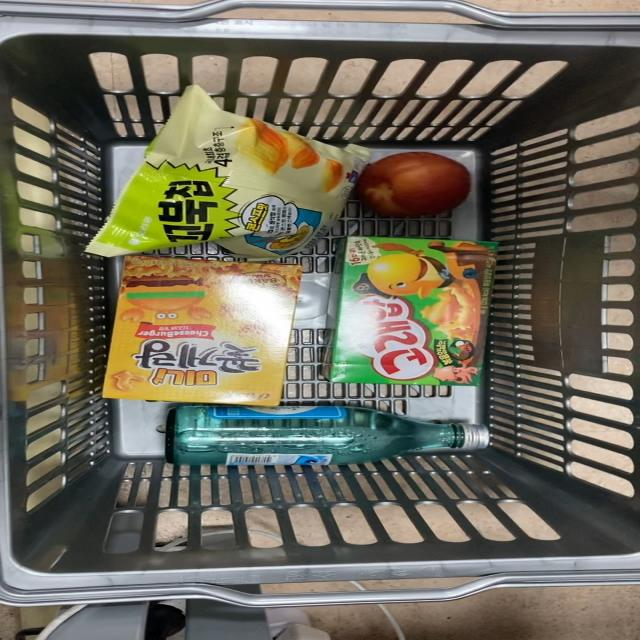ggobukchip: (52, 86, 334, 262)
goraebob: (318, 231, 508, 384)
jinro: (173, 399, 496, 469)
minicrab: (111, 254, 301, 397)
plum: (342, 139, 480, 229)
